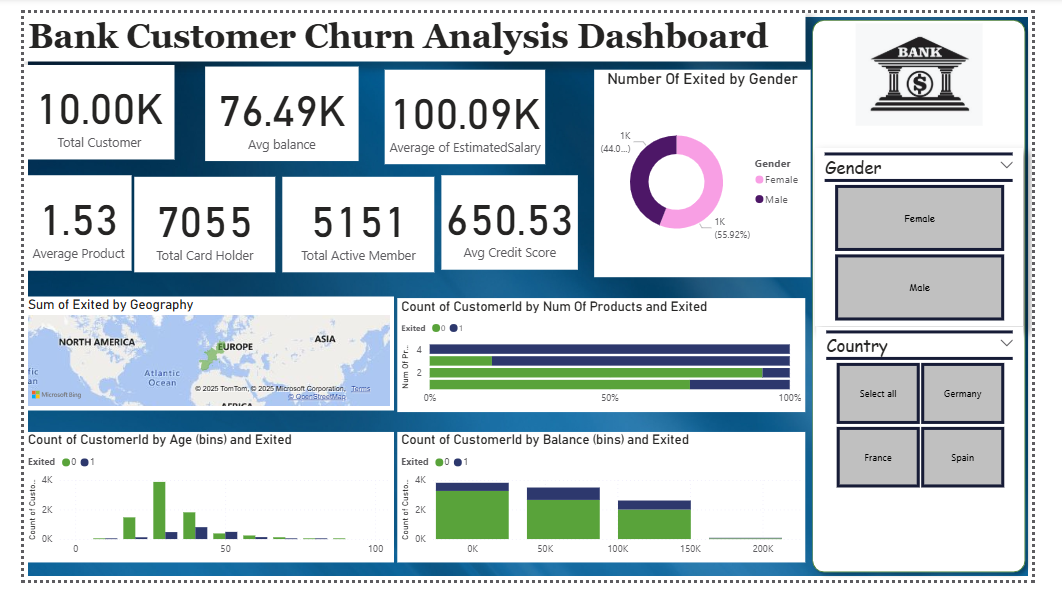

The page's visual inventory and layout, read from the dashboard file:
{"tool":"powerbi","page":{"name":"Page 1","canvas":[1280,720],"ordinal":0},"visuals":[{"type":"image","box":[0,0,1280,720],"z":2},{"type":"textbox","box":[0,0,992.3,61.5],"z":502},{"type":"shape","box":[992.3,0,288.5,719.2],"z":503},{"type":"image","box":[1003.8,7.7,265.4,140.4],"z":504},{"type":"card","fields":{"Values":["CountNonNull(Churn_Modelling.CustomerId)"]},"box":[0,65.4,130.8,121.2],"z":505},{"type":"card","fields":{"Values":["Avg(Churn_Modelling.CreditScore)"]},"box":[136.5,65.4,173.1,121.1],"z":506},{"type":"card","fields":{"Values":["Avg(Churn_Modelling.Balance)"]},"box":[315.4,65.4,194.2,121.1],"z":507},{"type":"card","fields":{"Values":["Avg(Churn_Modelling.EstimatedSalary)"]},"box":[513.5,67.3,203.8,121.1],"z":508},{"type":"card","fields":{"Values":["Sum(Churn_Modelling.NumOfProducts)"]},"box":[1.9,205.9,134.6,121.2],"z":509},{"type":"card","fields":{"Values":["Sum(Churn_Modelling.HasCrCard)"]},"box":[140.4,207.8,178.8,121.1],"z":510},{"type":"card","fields":{"Values":["Sum(Churn_Modelling.IsActiveMember)"]},"box":[323.1,209.8,194.2,121.1],"z":511},{"type":"slicer","title":"Gender","fields":{"Values":["Churn_Modelling.Gender"]},"box":[1003.9,172.5,264.7,225.5],"z":512},{"type":"slicer","fields":{"Values":["Churn_Modelling.Geography"]},"box":[1005.9,398,262.7,211.8],"z":513},{"type":"card","fields":{"Values":["Avg(Churn_Modelling.NumOfProducts)"]},"box":[521.2,207.8,194.2,121.1],"z":514},{"type":"donutChart","fields":{"Category":["Churn_Modelling.Gender"],"Y":["Sum(Churn_Modelling.Exited)"]},"box":[723.1,71.2,275,263.4],"z":515},{"type":"filledMap","fields":{"Category":["Churn_Modelling.Geography"]},"box":[0,360,470,144],"z":516},{"type":"clusteredColumnChart","fields":{"Category":["Churn_Modelling.Age (bins)"],"Series":["Churn_Modelling.Exited"],"Y":["CountNonNull(Churn_Modelling.CustomerId)"]},"box":[0,532,470,166],"z":517},{"type":"pieChart","fields":{"Category":["Churn_Modelling.NumOfProducts"],"Y":["CountNonNull(Churn_Modelling.CustomerId)"],"Series":["Churn_Modelling.Exited"]},"box":[474,360,518,144],"z":518},{"type":"columnChart","fields":{"Category":["Churn_Modelling.Balance (bins)"],"Y":["CountNonNull(Churn_Modelling.CustomerId)"],"Series":["Churn_Modelling.Exited"]},"box":[474,532,518,166],"z":519}]}

Visuals, with their boxes in screenshot pixels (x1, y1, x2, y2), scaled from the page's 1280x720 canvas onto the 1062x603 screenshot:
image: crop(0, 0, 1061, 602)
textbox: crop(0, 0, 823, 52)
shape: crop(823, 0, 1061, 602)
image: crop(833, 6, 1053, 124)
card - CountNonNull(Churn_Modelling.CustomerId): crop(0, 55, 109, 156)
card - Avg(Churn_Modelling.CreditScore): crop(113, 55, 257, 156)
card - Avg(Churn_Modelling.Balance): crop(262, 55, 423, 156)
card - Avg(Churn_Modelling.EstimatedSalary): crop(426, 56, 595, 158)
card - Sum(Churn_Modelling.NumOfProducts): crop(2, 172, 113, 274)
card - Sum(Churn_Modelling.HasCrCard): crop(116, 174, 265, 275)
card - Sum(Churn_Modelling.IsActiveMember): crop(268, 176, 429, 277)
"Gender" slicer: crop(833, 144, 1053, 333)
slicer - Churn_Modelling.Geography: crop(835, 333, 1053, 511)
card - Avg(Churn_Modelling.NumOfProducts): crop(432, 174, 594, 275)
donutChart - Churn_Modelling.Gender x Sum(Churn_Modelling.Exited): crop(600, 60, 828, 280)
filledMap - Churn_Modelling.Geography: crop(0, 302, 390, 422)
clusteredColumnChart - Churn_Modelling.Age (bins) x Churn_Modelling.Exited: crop(0, 446, 390, 585)
pieChart - Churn_Modelling.NumOfProducts x CountNonNull(Churn_Modelling.CustomerId): crop(393, 302, 823, 422)
columnChart - Churn_Modelling.Balance (bins) x CountNonNull(Churn_Modelling.CustomerId): crop(393, 446, 823, 585)
